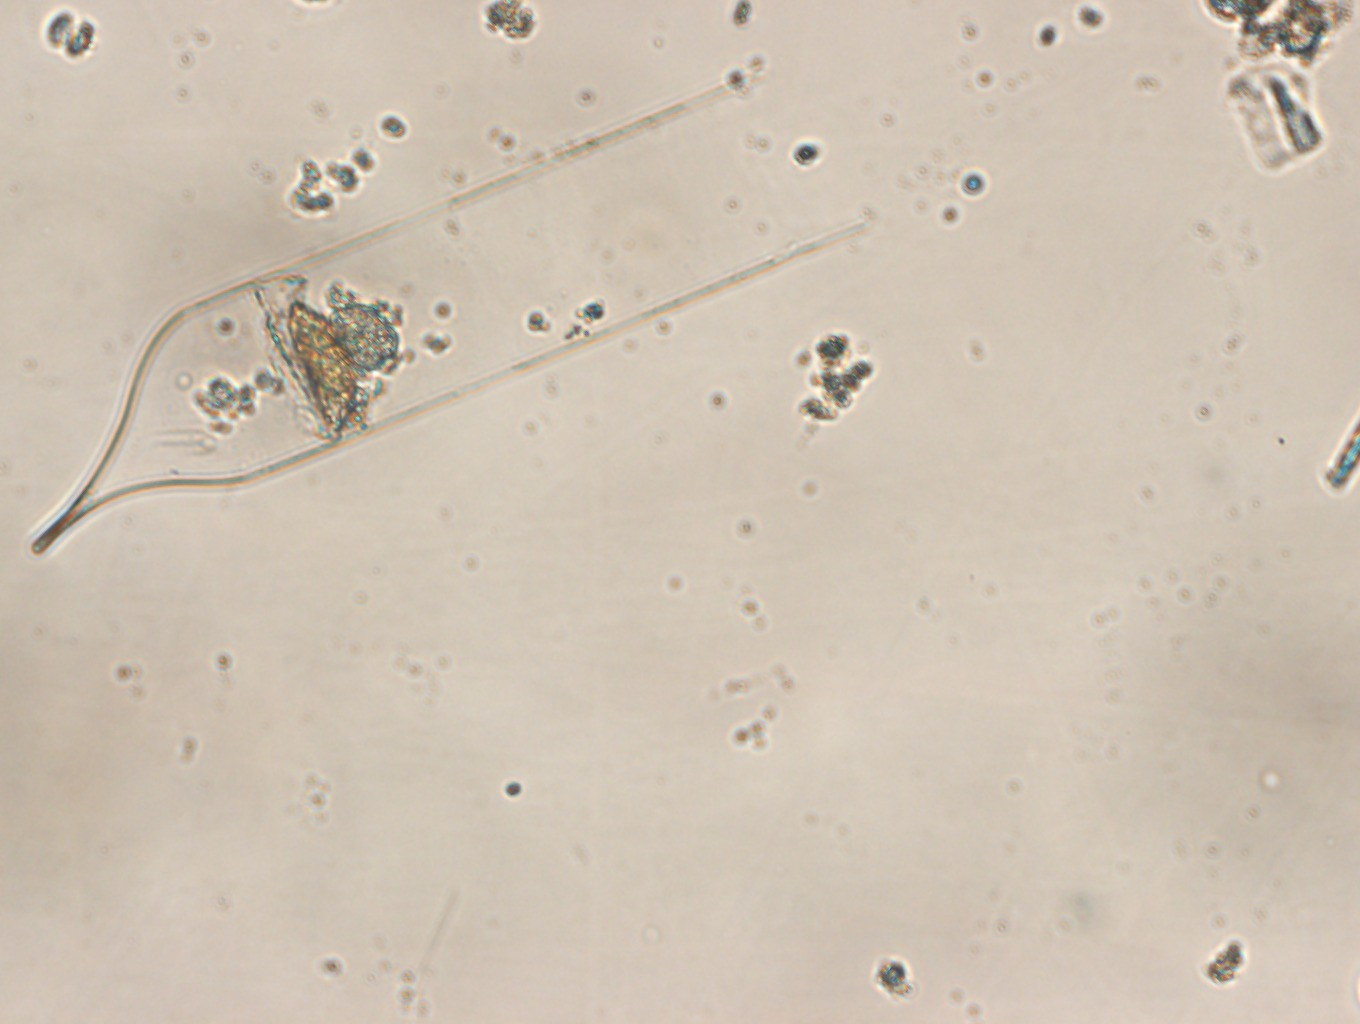rhizosolenia: (19, 62, 876, 559)
